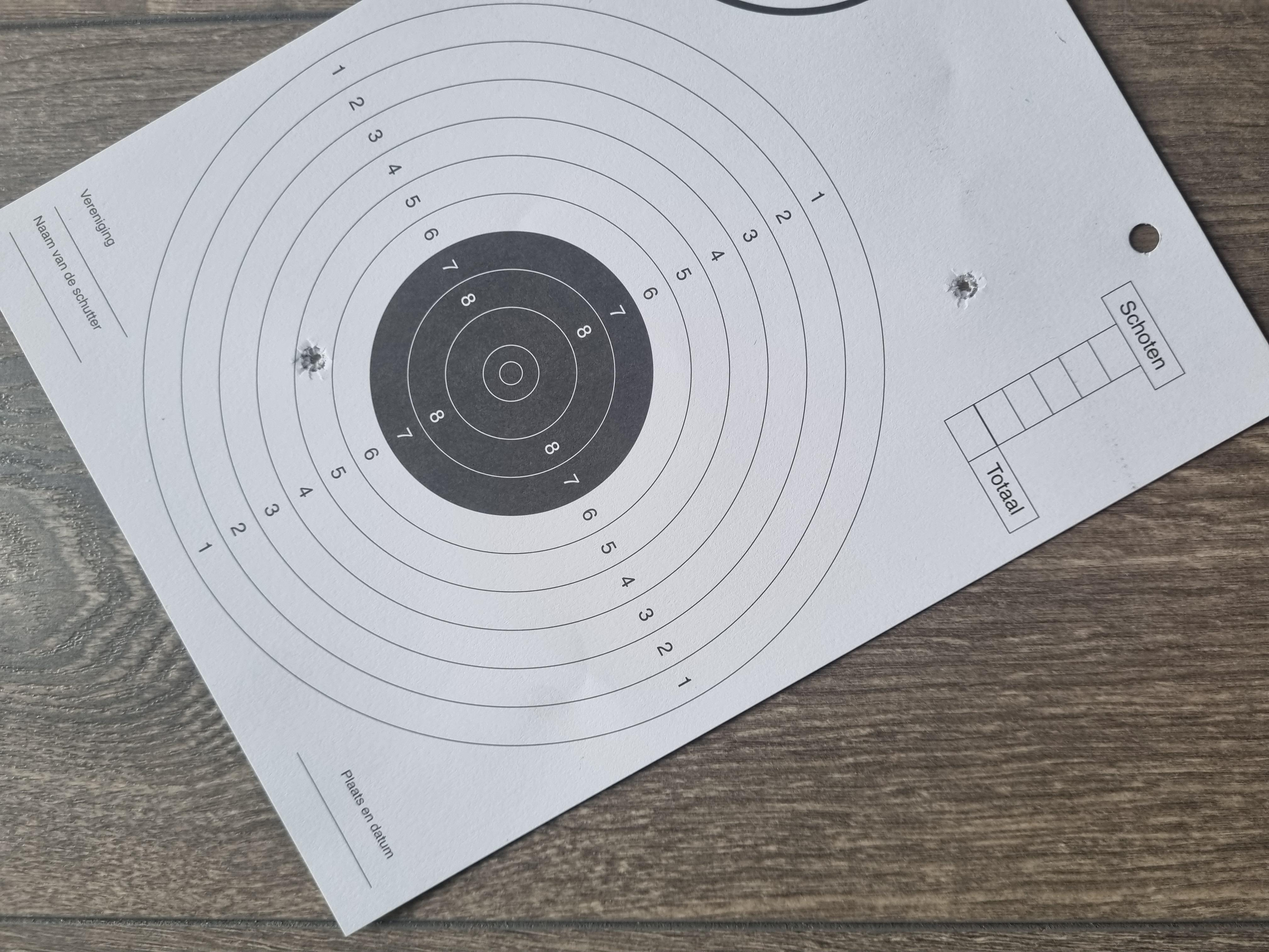hole: (857, 709, 907, 735), (762, 219, 812, 244)
